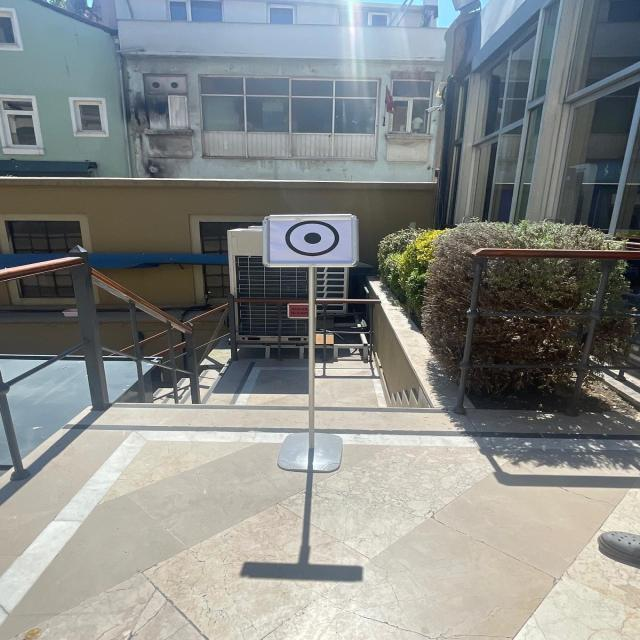Target: (251, 203, 372, 276)
inner: (299, 228, 325, 250)
